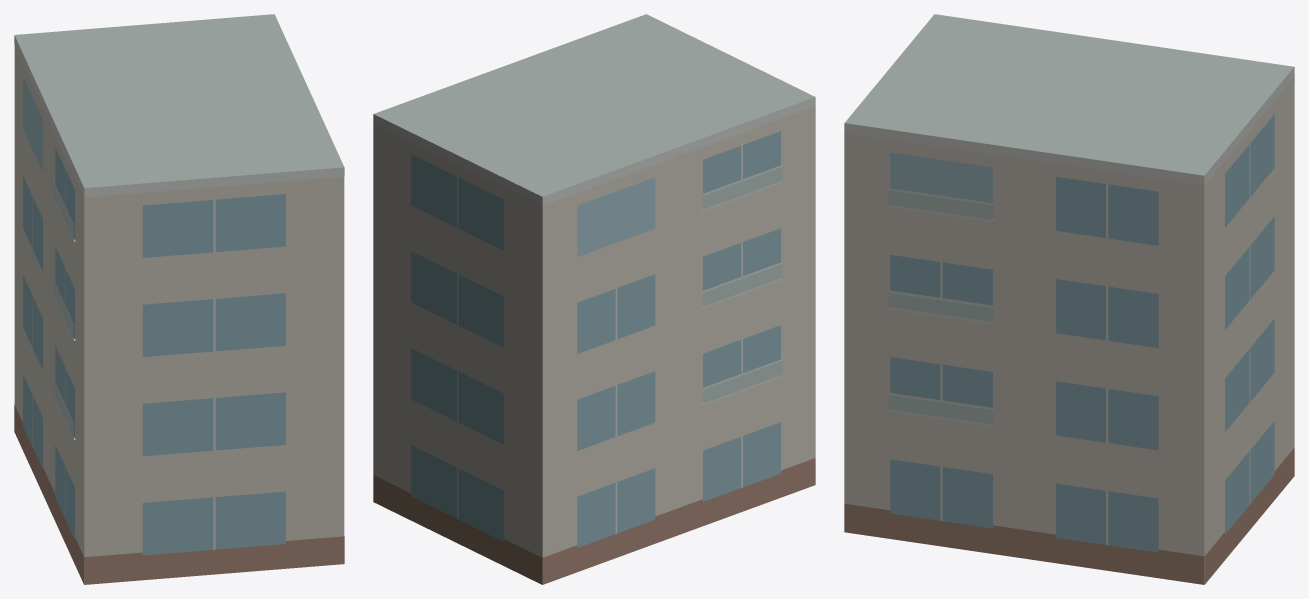
Rendered from survey-upis-32911856.glb.
3 views of the same model, side by side, from view 1: azimuth 30°, elevation 25°; view 2: azimuth 150°, elevation 25°; view 3: azimuth 270°, elevation 25° (orthographic). The views are drawn at different scales.
Visible parts, largest first — view 1: survey-upis-32911856.tmp; view 2: survey-upis-32911856.tmp; view 3: survey-upis-32911856.tmp.
Part boxes in pixels (x1,y1,x2,y2): survey-upis-32911856.tmp: (14,14,344,584); survey-upis-32911856.tmp: (373,14,815,584); survey-upis-32911856.tmp: (844,14,1294,584).
Bounding box in the file's own units: 8.82 × 10.4 × 10.38.
